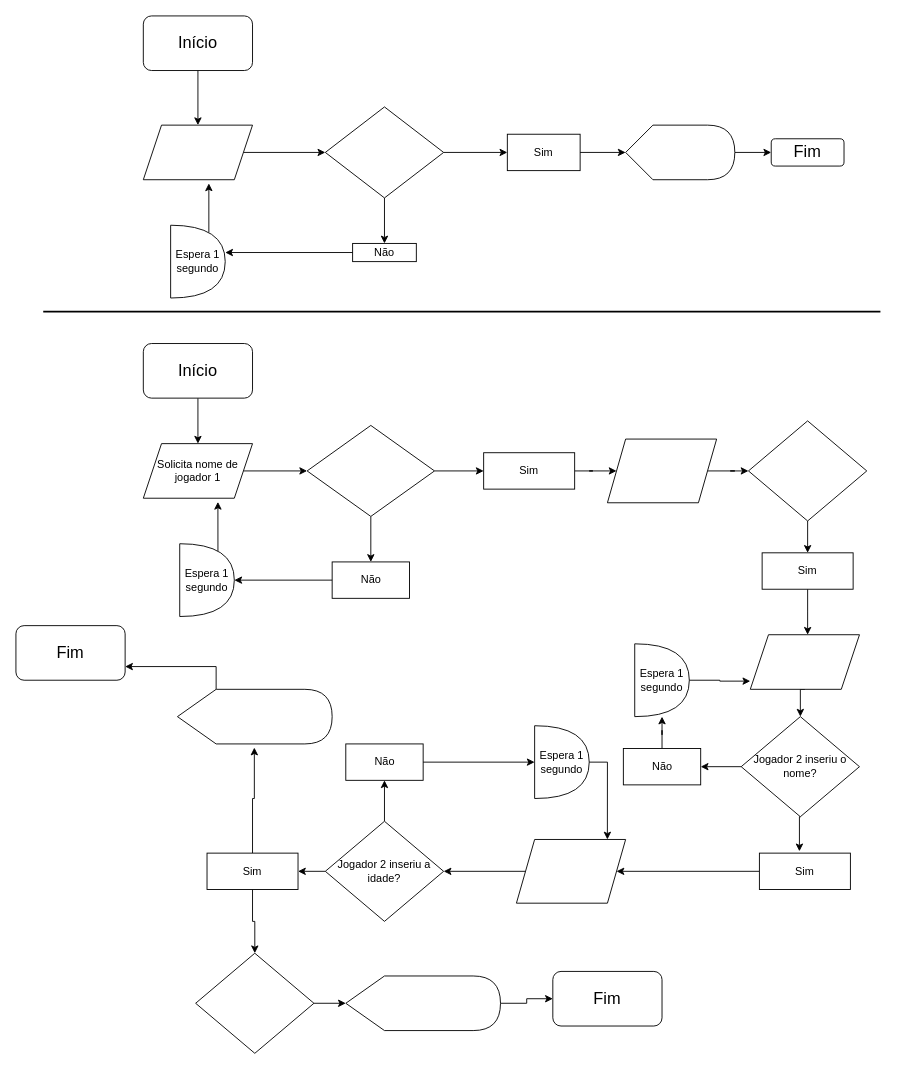
Image size: 897x1069. Some labels were removed from this diagram. Each missing label, with the box of its shape:
Exibe nome do jogador com o maior numeral: (177, 688, 332, 744)
Exibe nome do usuário: (625, 124, 735, 180)
Exibe os dois nome na tela: (345, 975, 500, 1031)
Jogador 1 inseriu a idade?: (748, 420, 867, 521)
Jogador 1 inseriu o nome?: (306, 425, 435, 516)
O valor dos dois numerais é igual?: (195, 952, 314, 1053)
Solicita idade de jogador 1 (em numeral): (607, 438, 717, 503)
Solicita idade de jogador 2 (em numeral): (516, 839, 626, 903)
Solicita nome de jogador 2: (749, 634, 859, 689)
Solicita nome de usuário: (142, 124, 253, 180)
Usuário inseriu o nome?: (324, 106, 444, 198)
